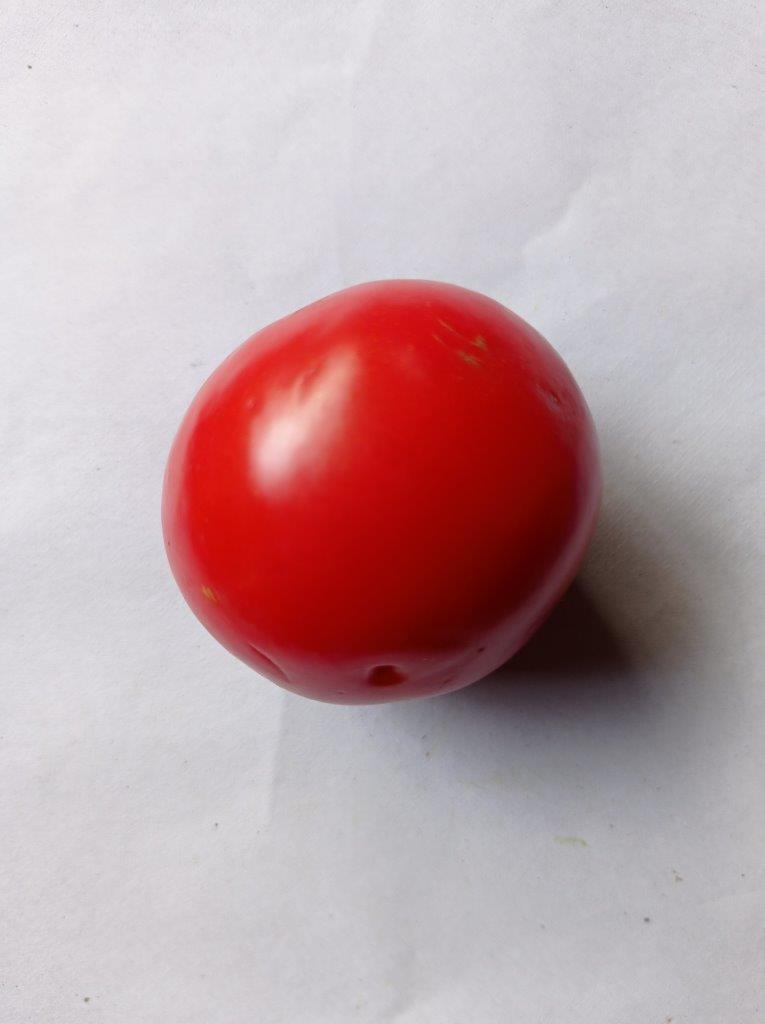surface_damage: (458, 349, 481, 369), (199, 583, 218, 603), (471, 333, 488, 351)
tomato: (162, 280, 599, 703)
